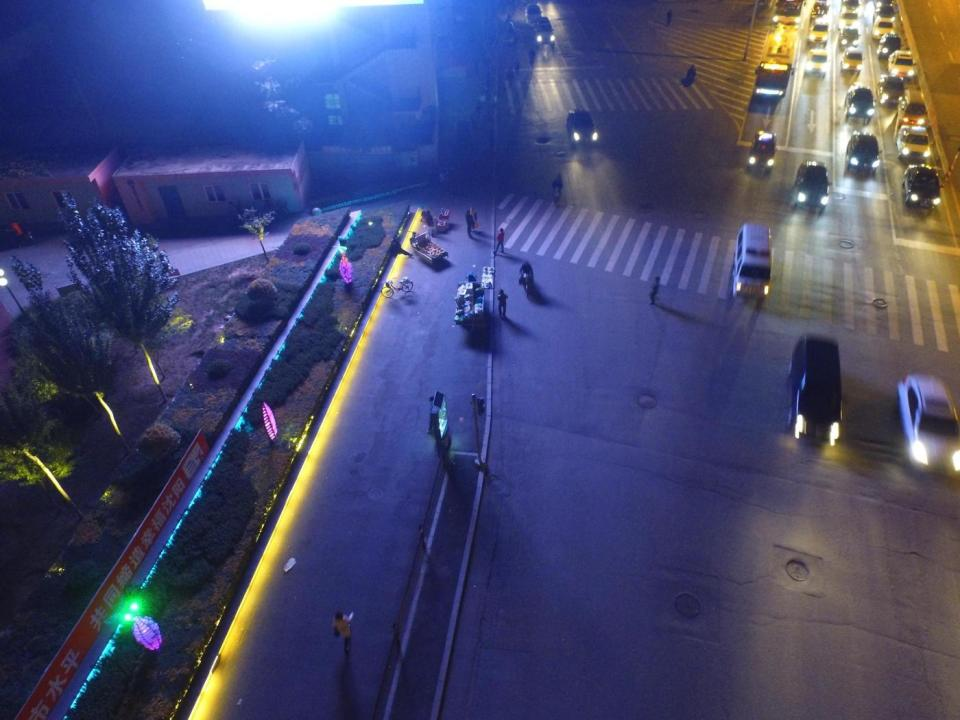bus: (756, 24, 795, 98)
car: (892, 372, 960, 473), (902, 161, 947, 218), (790, 159, 830, 210), (563, 108, 603, 152), (845, 129, 878, 180), (893, 124, 930, 164), (843, 81, 877, 123), (746, 128, 776, 173), (886, 47, 918, 78), (805, 46, 832, 82), (878, 72, 903, 107), (869, 12, 901, 39), (835, 24, 865, 51), (840, 44, 864, 75), (873, 32, 904, 54), (806, 20, 830, 48), (498, 20, 518, 47), (807, 0, 830, 22), (836, 9, 860, 30), (869, 3, 899, 19), (842, 0, 864, 13)
van: (784, 334, 848, 446), (731, 222, 774, 303), (893, 88, 930, 123), (532, 16, 560, 50), (522, 1, 548, 24)
